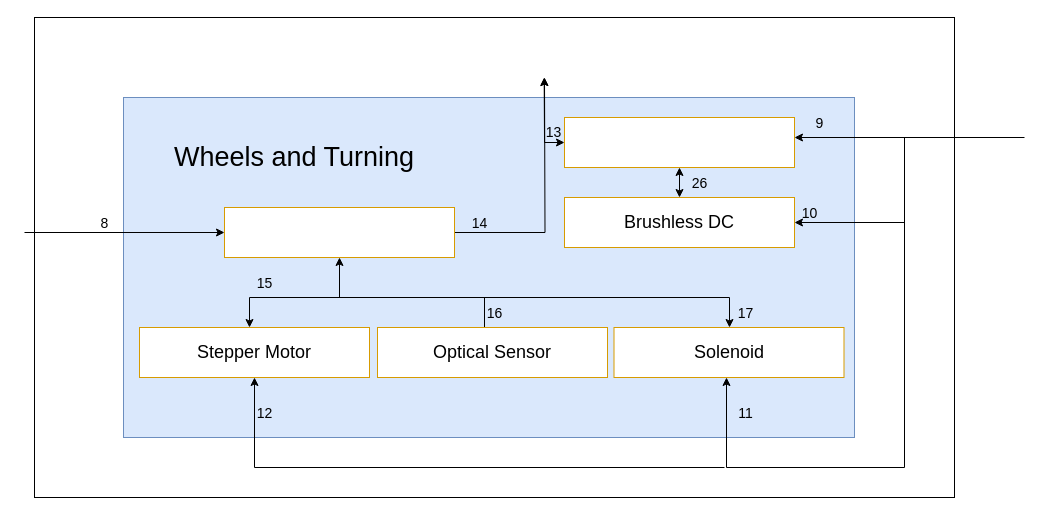
The diagram is 1050 pixels wide and 523 high, and some of its shapes have lost their labels. The centre of each missing label's shape, as x and y in pixels:
"ESC" goes at (679,142).
"Microcontroller" goes at (339,232).
